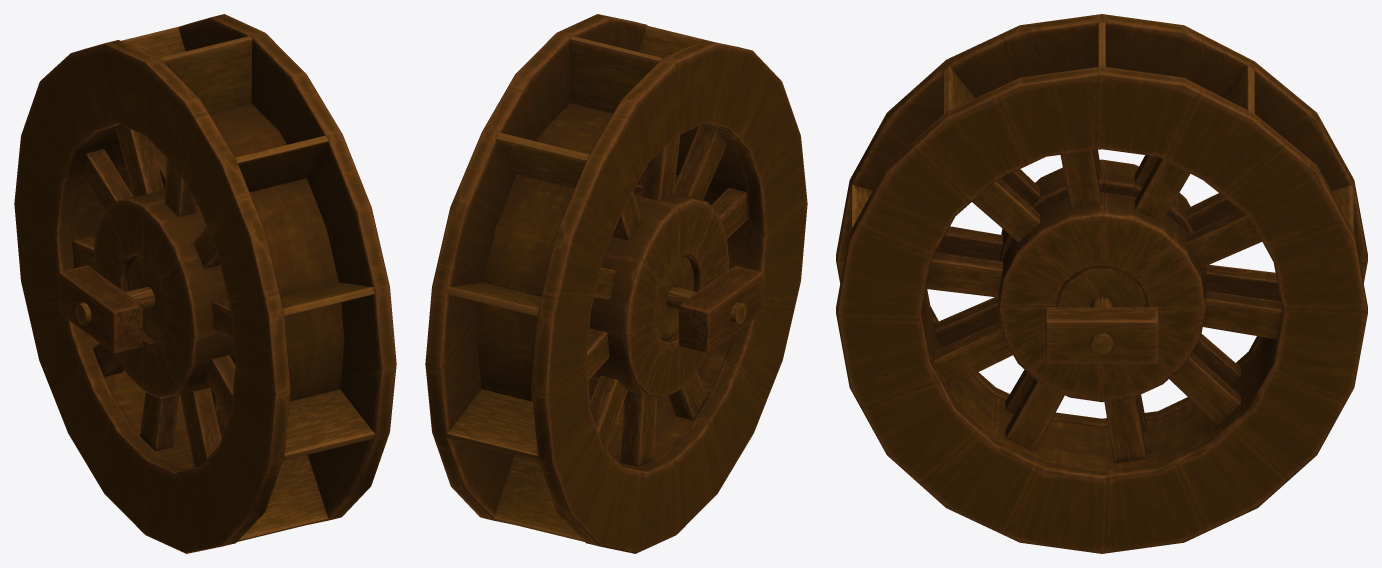
The model's file is structure_waterwheel.gltf.
3 renders of one model, left to right at view 1: azimuth 30°, elevation 25°; view 2: azimuth 150°, elevation 25°; view 3: azimuth 270°, elevation 25°, orthographic.
Parts seen in each view (by area): view 1: SM_WaterWheel_LOD0; view 2: SM_WaterWheel_LOD0; view 3: SM_WaterWheel_LOD0.
Boxes of the visible parts, x1,y1,x2,y2 form: SM_WaterWheel_LOD0: (14, 14, 396, 553); SM_WaterWheel_LOD0: (425, 14, 807, 553); SM_WaterWheel_LOD0: (836, 14, 1367, 553).
Bounding box in the file's own units: 3.16 × 5.77 × 5.78.
1 material, 1 textured.
